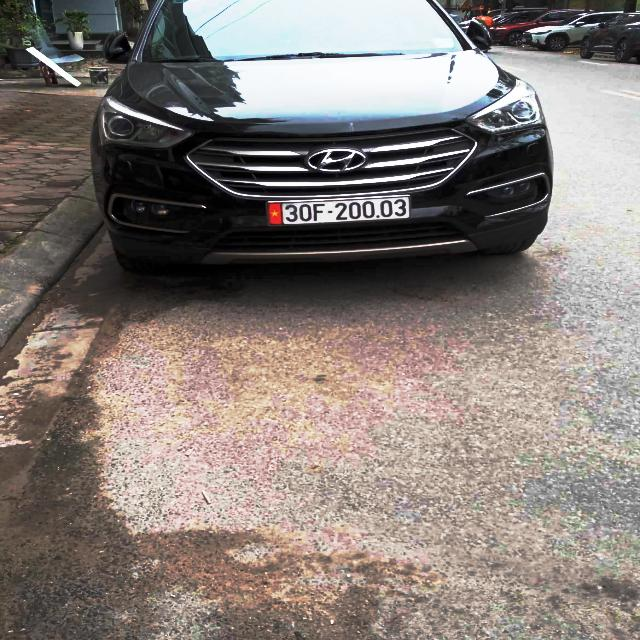license_plate: (268, 195, 413, 227)
